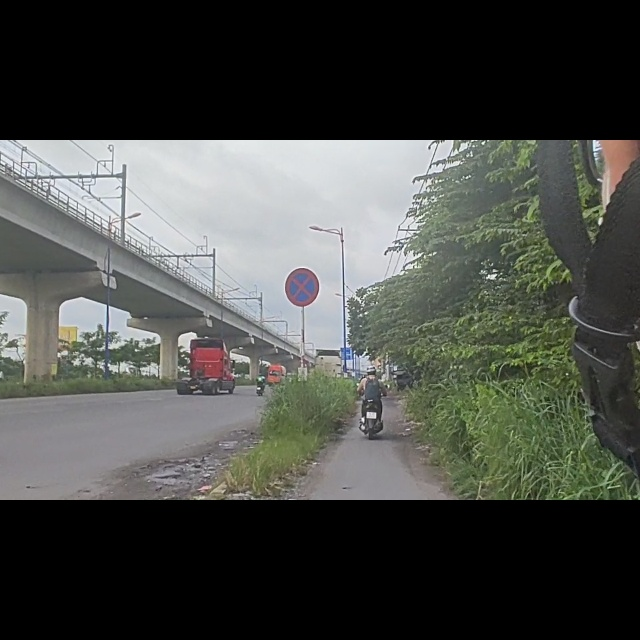bien_cam: (279, 224, 325, 299)
